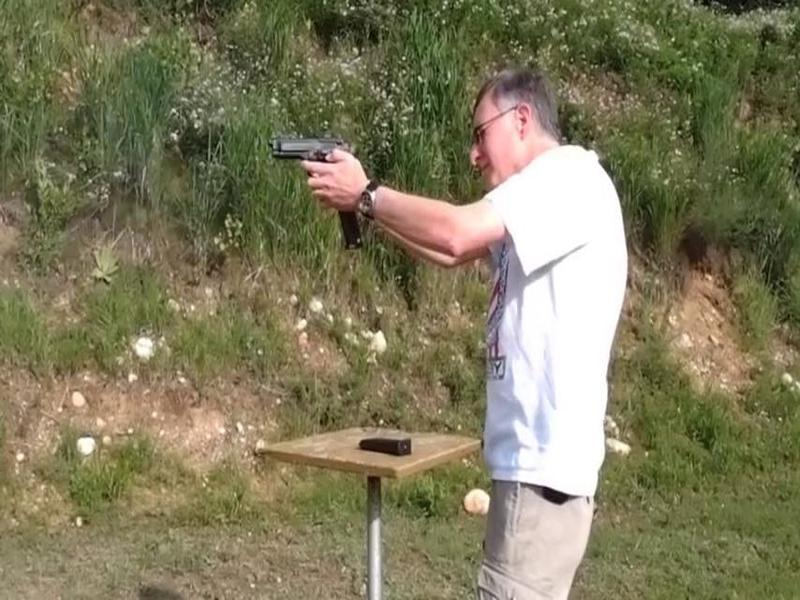Pistola: (273, 128, 369, 215)
